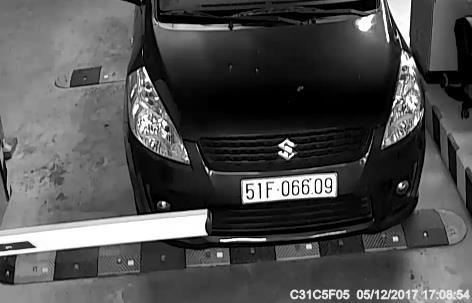License-plate: (239, 166, 341, 207)
